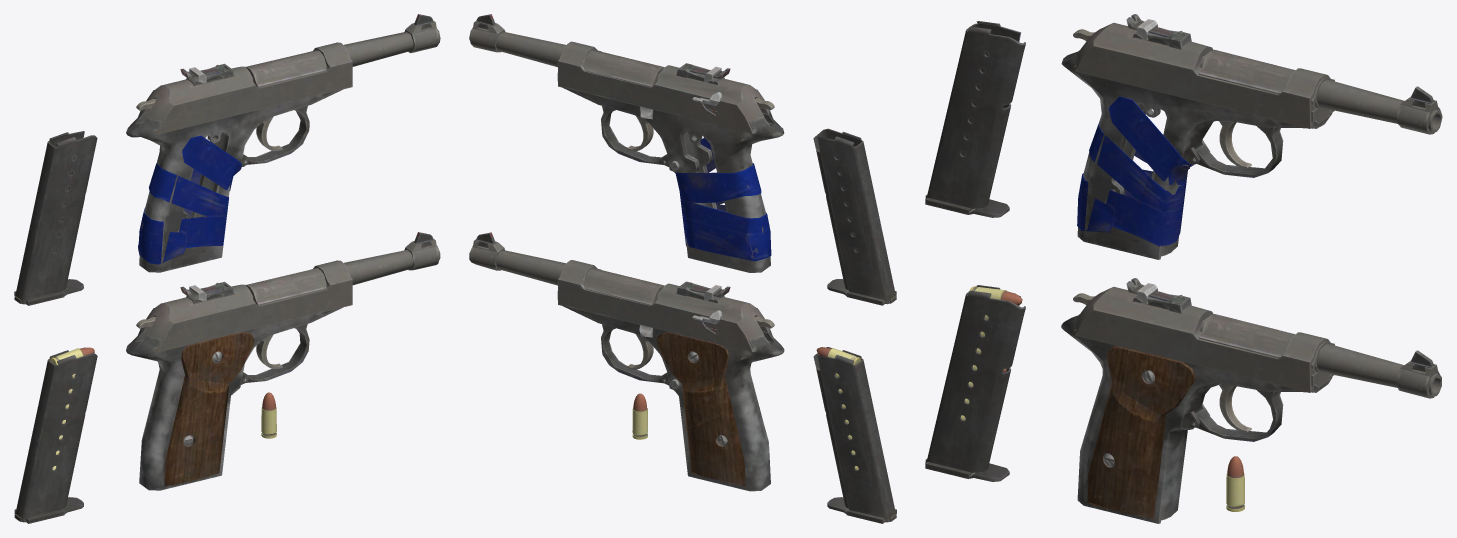
Rendered from service_pistol.gltf.
The picture shows the model from 3 angles, left to right: view 1: azimuth 30°, elevation 25°; view 2: azimuth 150°, elevation 25°; view 3: azimuth 330°, elevation 25°; orthographic projection. The views are drawn at different scales.
Parts seen in each view (by area): view 1: service_pistol_pistol_b, service_pistol_pistol_a, service_pistol_magazine_loaded, service_pistol_magazine_empty, service_pistol_slide_a, service_pistol_slide_b, service_pistol_bullet; view 2: service_pistol_pistol_b, service_pistol_pistol_a, service_pistol_magazine_loaded, service_pistol_magazine_empty, service_pistol_slide_b, service_pistol_slide_a, service_pistol_bullet; view 3: service_pistol_pistol_a, service_pistol_pistol_b, service_pistol_magazine_loaded, service_pistol_magazine_empty, service_pistol_slide_b, service_pistol_slide_a, service_pistol_bullet, service_pistol_trigger_a, service_pistol_trigger_b.
Boxes of the visible parts, x1,y1,x2,y2 form: service_pistol_pistol_b: (126, 14, 440, 272); service_pistol_pistol_a: (126, 232, 440, 490); service_pistol_magazine_loaded: (14, 347, 97, 523); service_pistol_magazine_empty: (14, 131, 97, 305); service_pistol_slide_a: (141, 260, 352, 352); service_pistol_slide_b: (141, 42, 352, 134); service_pistol_bullet: (261, 392, 276, 438); service_pistol_pistol_b: (469, 14, 784, 272); service_pistol_pistol_a: (469, 232, 784, 491); service_pistol_magazine_loaded: (813, 347, 896, 523); service_pistol_magazine_empty: (813, 128, 896, 305); service_pistol_slide_b: (558, 41, 773, 133); service_pistol_slide_a: (558, 260, 772, 351); service_pistol_bullet: (632, 393, 647, 439); service_pistol_pistol_a: (1061, 313, 1441, 523); service_pistol_pistol_b: (1061, 49, 1442, 259); service_pistol_magazine_loaded: (925, 285, 1025, 481); service_pistol_magazine_empty: (925, 21, 1025, 217); service_pistol_slide_b: (1074, 14, 1334, 128); service_pistol_slide_a: (1074, 278, 1334, 392); service_pistol_bullet: (1226, 456, 1244, 511); service_pistol_trigger_a: (1219, 384, 1251, 432); service_pistol_trigger_b: (1219, 121, 1251, 168).
Size of the model in its own units: 0.3016 by 0.2807 by 0.0318.
Materials: 1 (1 with a texture image).
